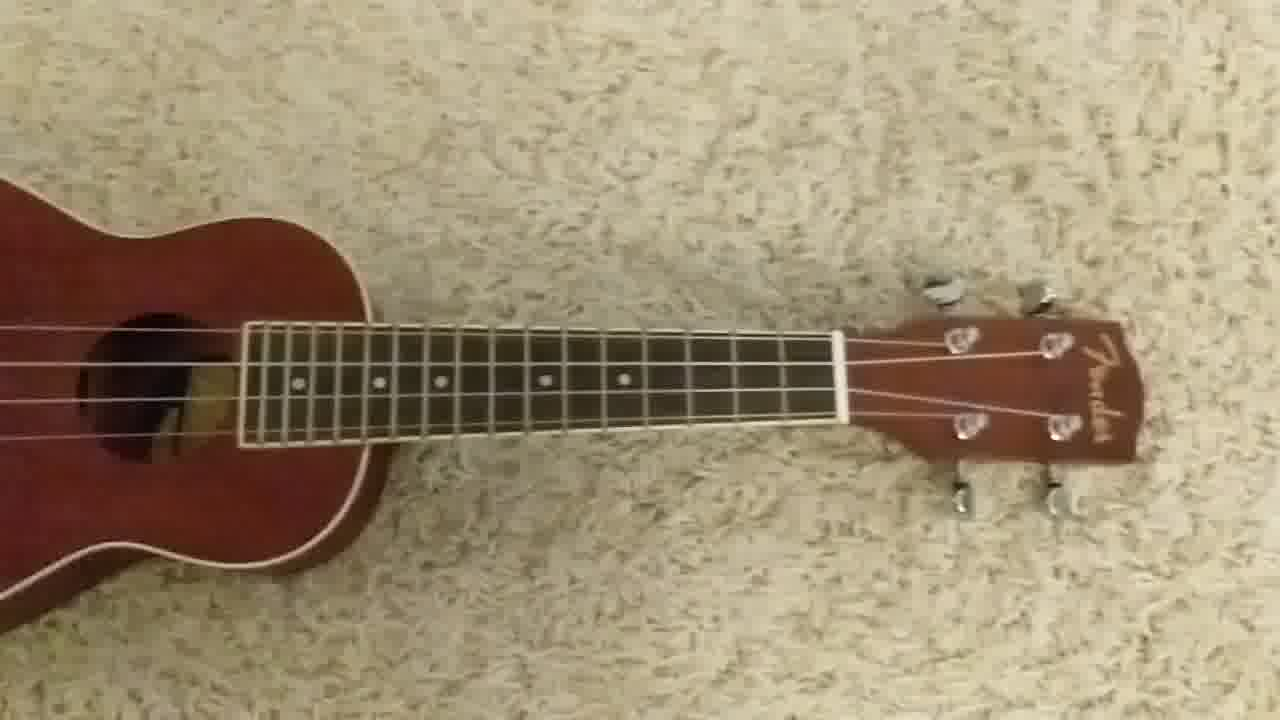Body: (1, 175, 397, 641)
Headstock: (843, 271, 1146, 521)
